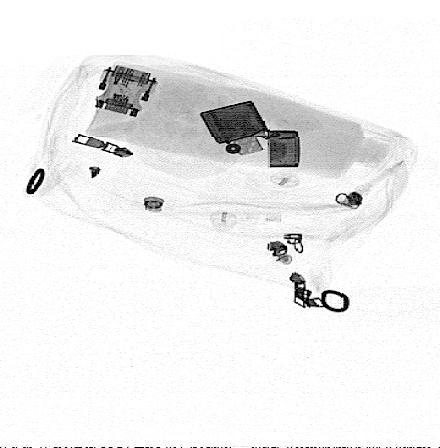Lighter: (199, 100, 300, 168)
